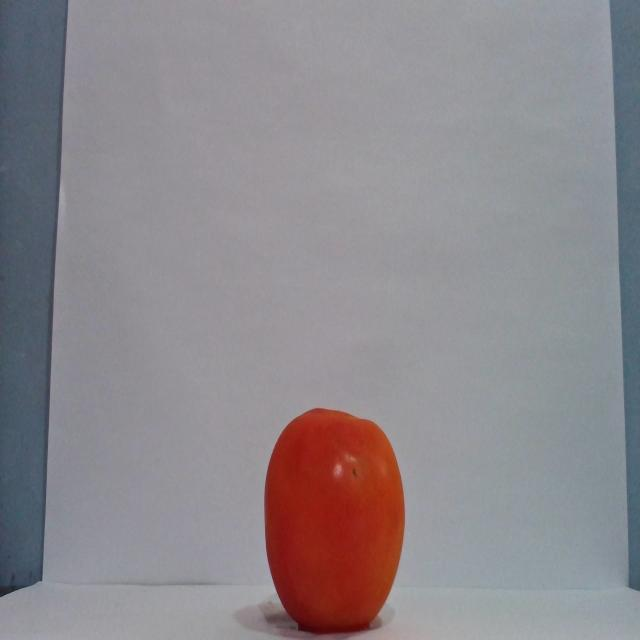Red: (262, 406, 406, 632)
